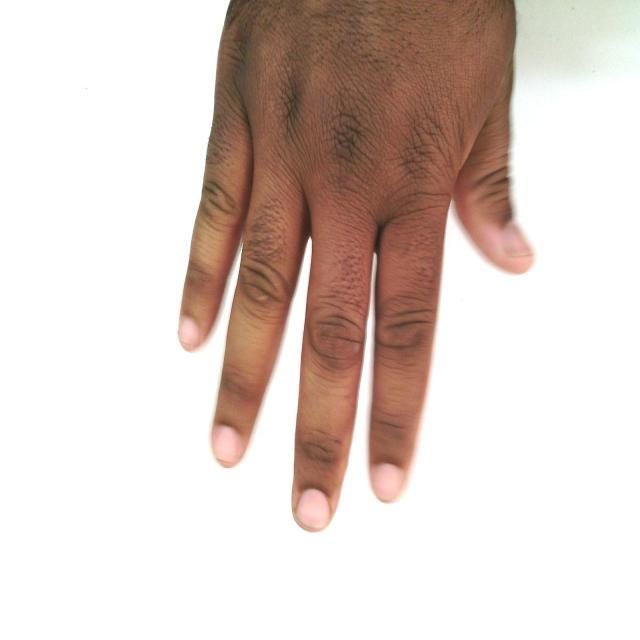Fingernail: (297, 489, 329, 530), (374, 464, 403, 502), (503, 222, 533, 256), (214, 427, 241, 462), (180, 318, 200, 345)
